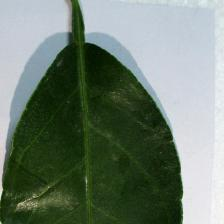healthy: (1, 42, 186, 224)
